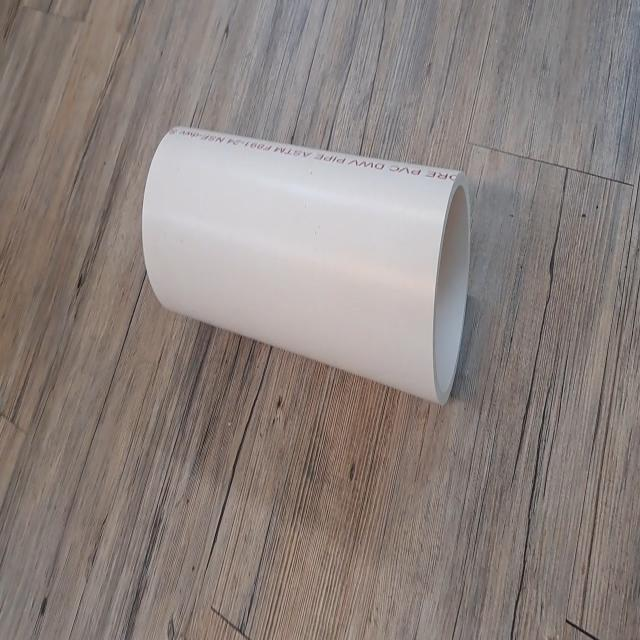CORAL: (135, 117, 478, 417)
